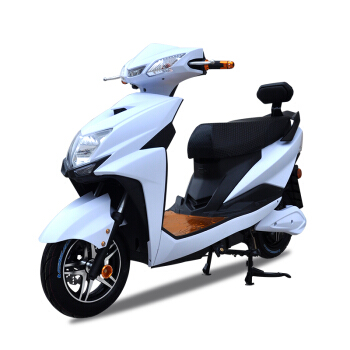电动车: (40, 38, 317, 323)
